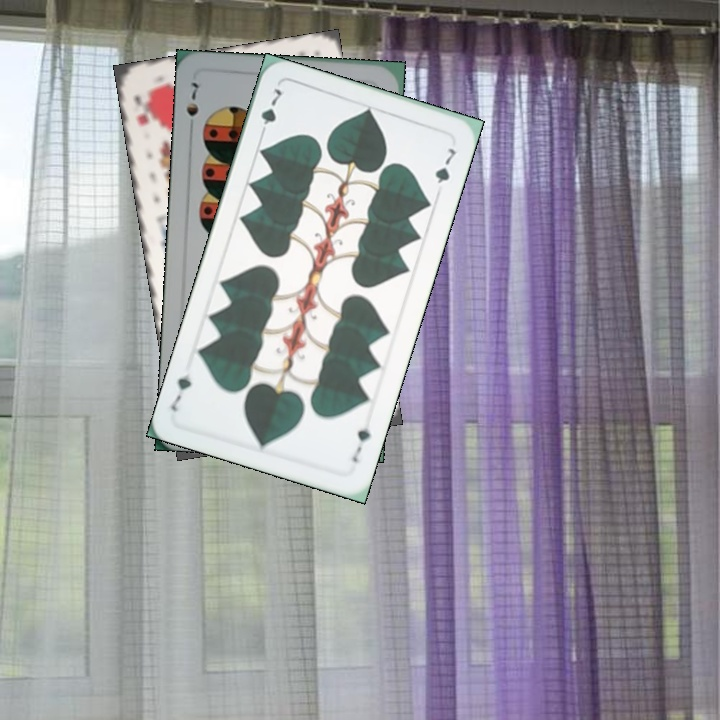G7: (255, 84, 285, 140), (347, 415, 373, 465)
HK: (130, 86, 156, 128)
S7: (182, 78, 202, 135)
